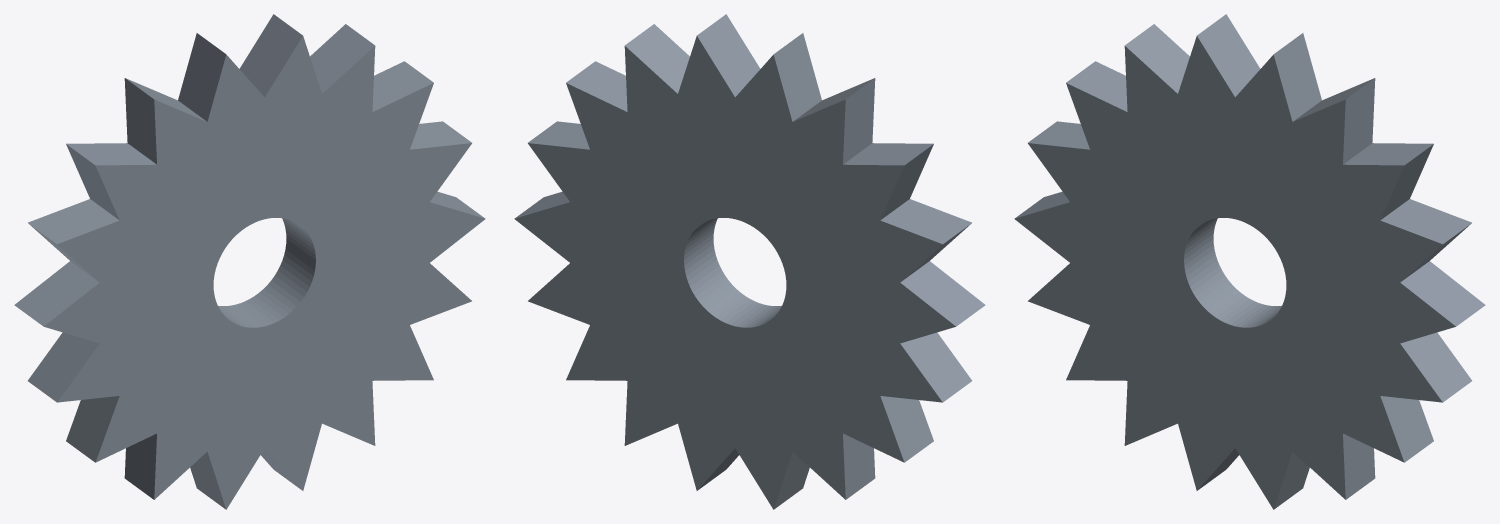
The model's file is gear.glb.
3 renders of one model, left to right at view 1: azimuth 30°, elevation 25°; view 2: azimuth 150°, elevation 25°; view 3: azimuth 330°, elevation 25°, orthographic.
Visible parts, largest first — view 1: gear; view 2: gear; view 3: gear.
Boxes of the visible parts, x1,y1,x2,y2 form: gear: (14, 14, 485, 509); gear: (514, 14, 985, 509); gear: (1014, 14, 1485, 509).
Size of the model in its own units: 1.9 by 1.87 by 0.22.
